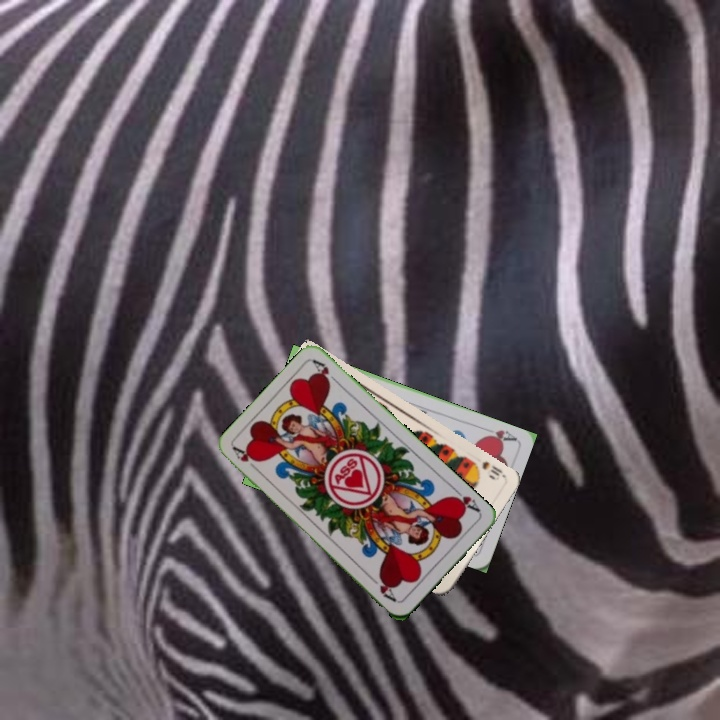HA: (446, 484, 483, 515), (230, 443, 262, 475), (479, 423, 519, 446)
S10: (467, 457, 506, 483)
